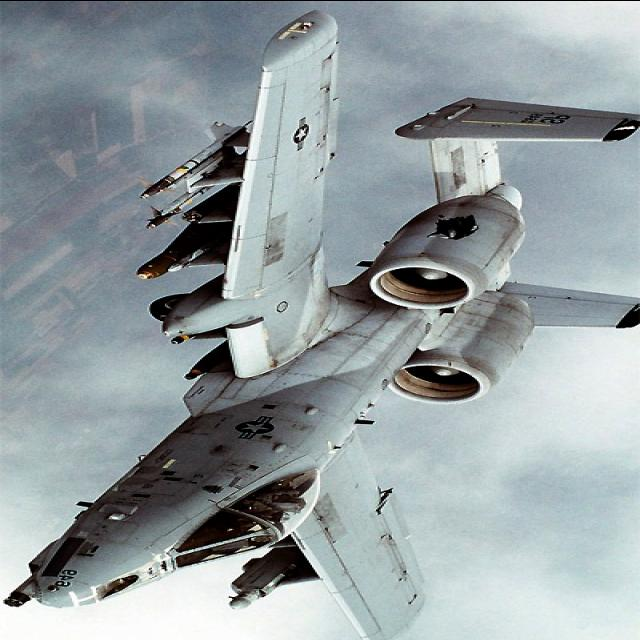A10: (0, 4, 637, 638)
